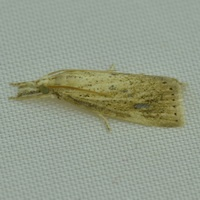insect: (10, 66, 185, 129)
